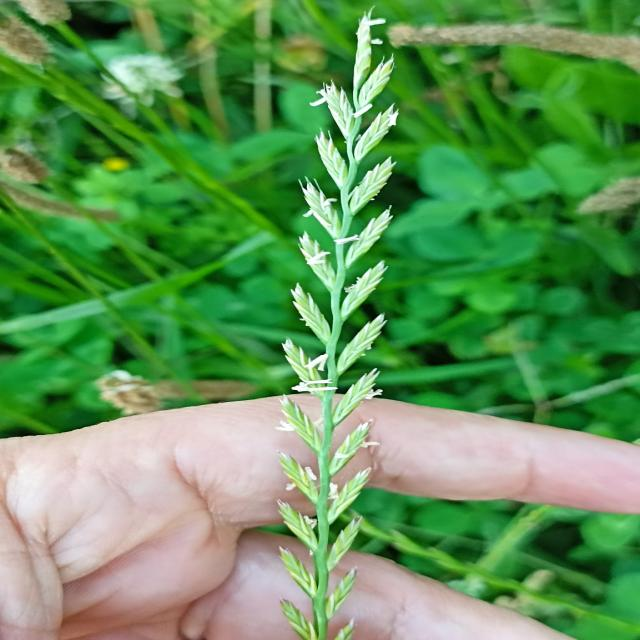Lolium: (268, 7, 404, 638)
